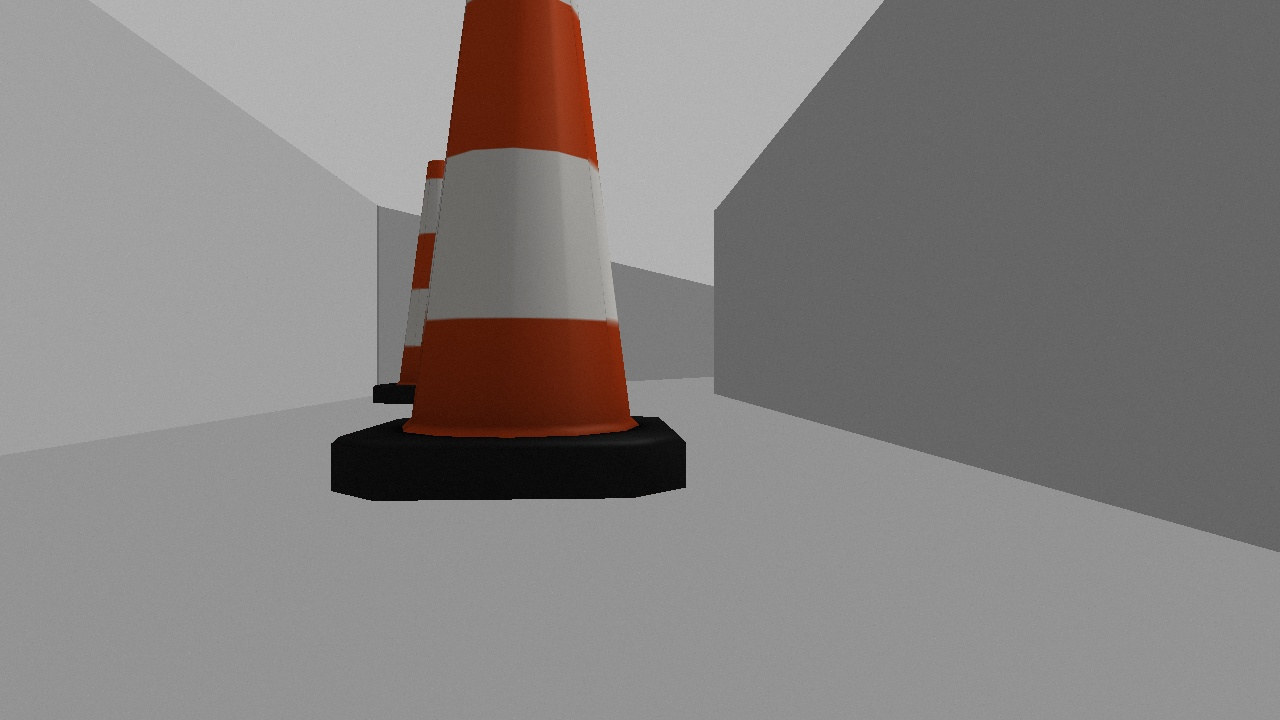barricade: (329, 1, 687, 501), (370, 159, 496, 405)
